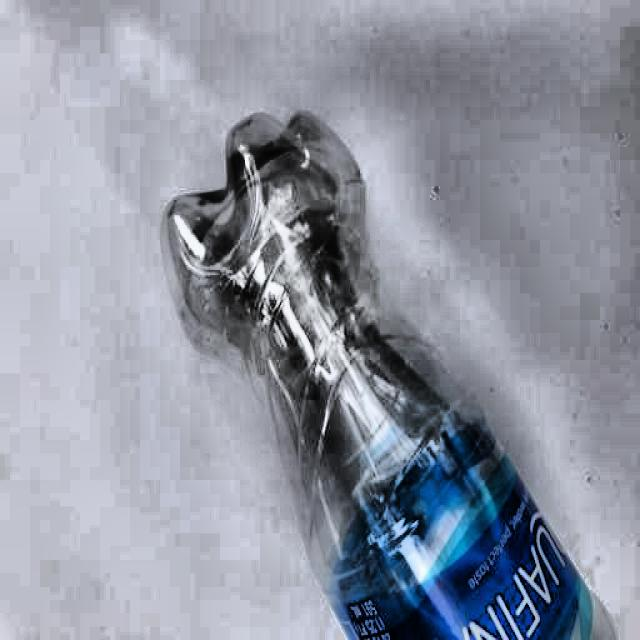plastic: (156, 104, 640, 640)
